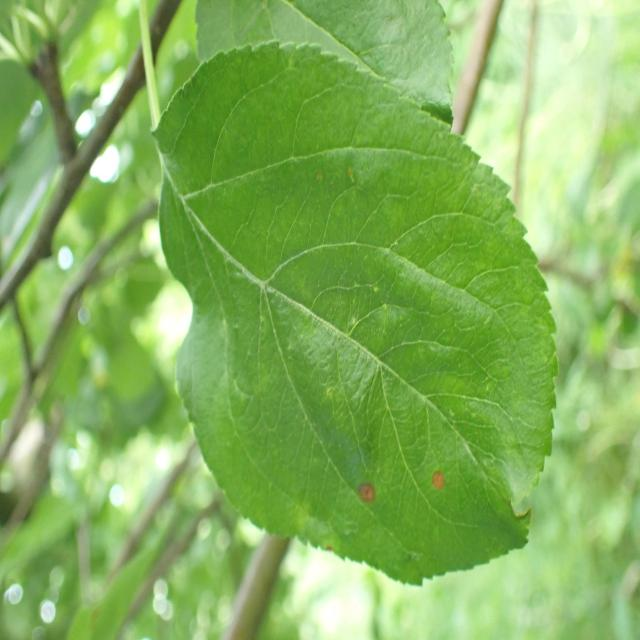Black Rot: (339, 448, 386, 528), (422, 454, 456, 522)
